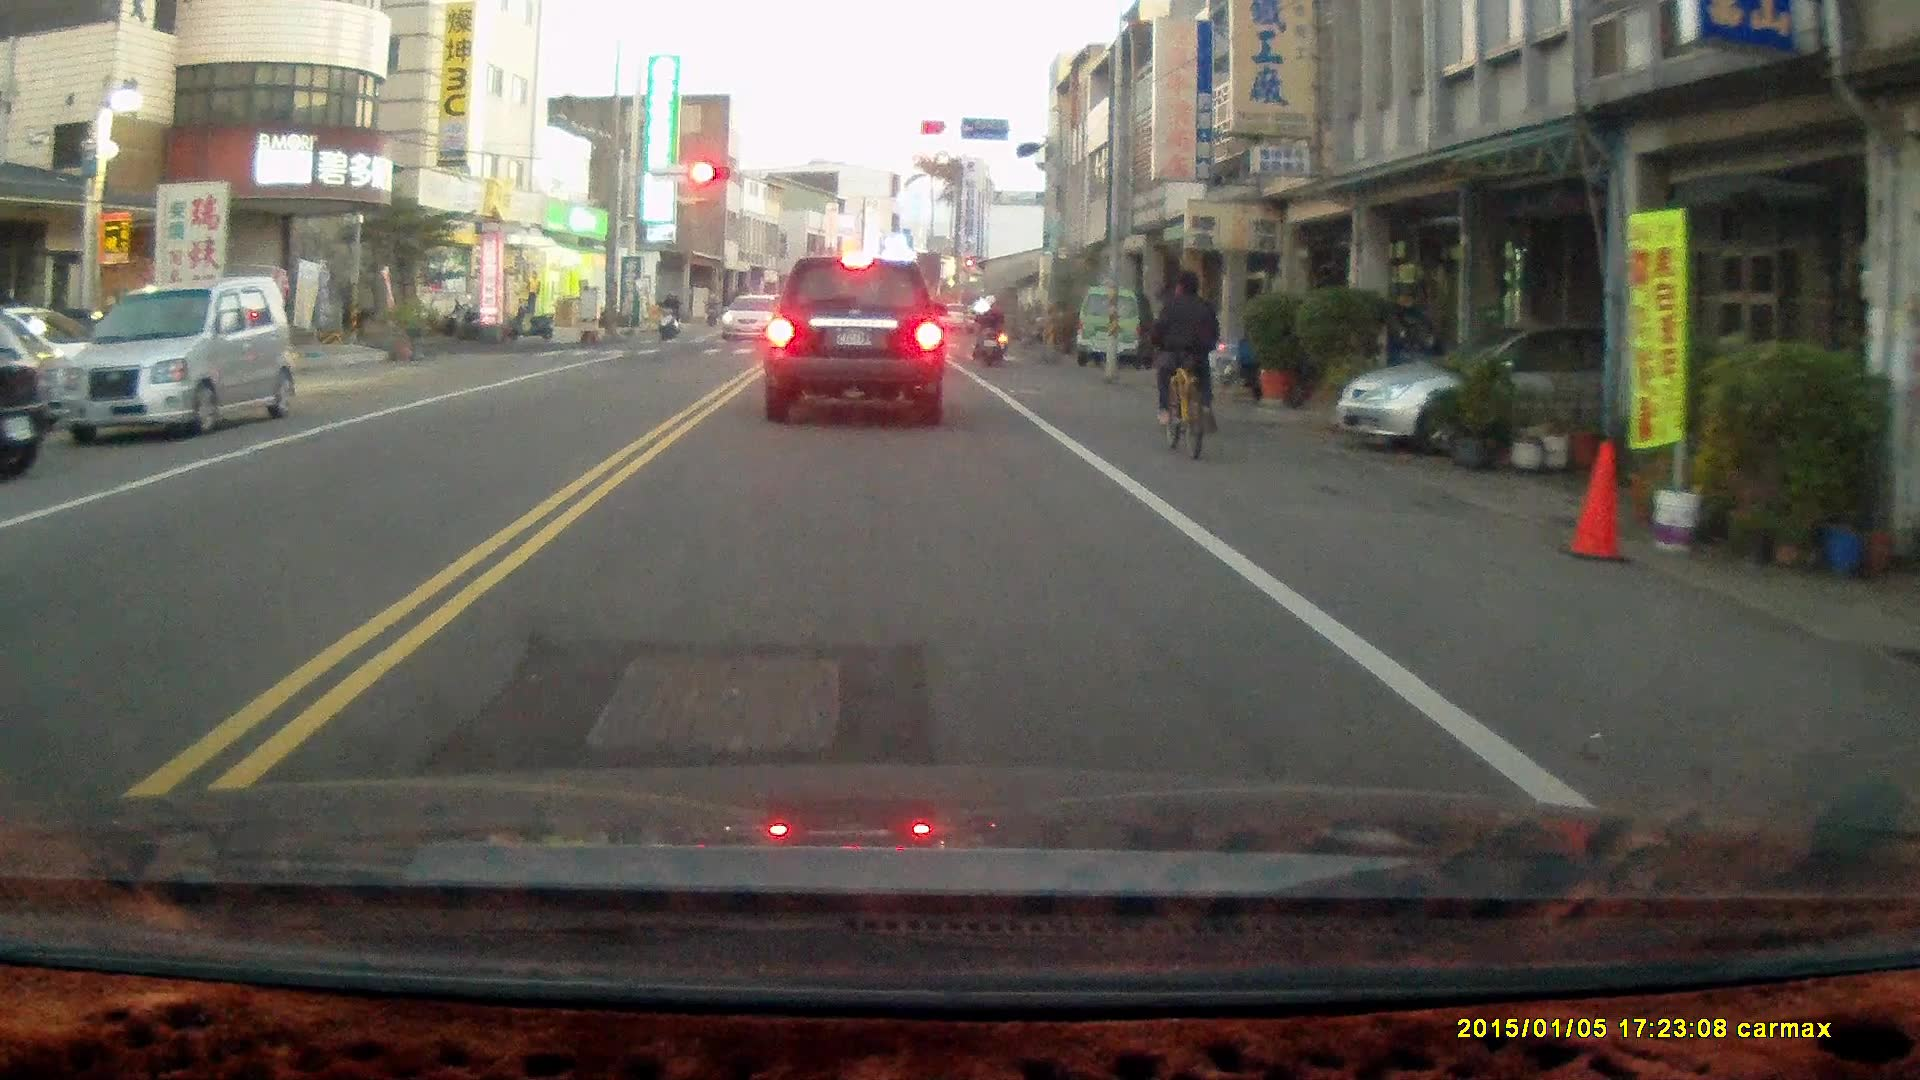pedestrian: (522, 268, 542, 315)
rider: (1146, 266, 1220, 461), (969, 291, 1009, 366), (655, 289, 682, 340)
vehicle: (1339, 319, 1742, 458), (44, 272, 300, 447), (761, 255, 951, 430), (1, 305, 60, 485), (1077, 287, 1157, 370)
